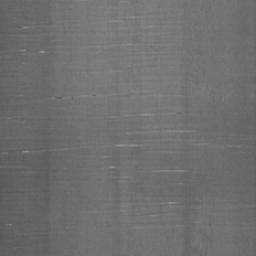Waist folding: (0, 89, 256, 230), (0, 147, 88, 176), (90, 15, 163, 49), (0, 24, 52, 59), (0, 222, 17, 251), (153, 168, 187, 174), (89, 69, 122, 73), (244, 203, 256, 208)
